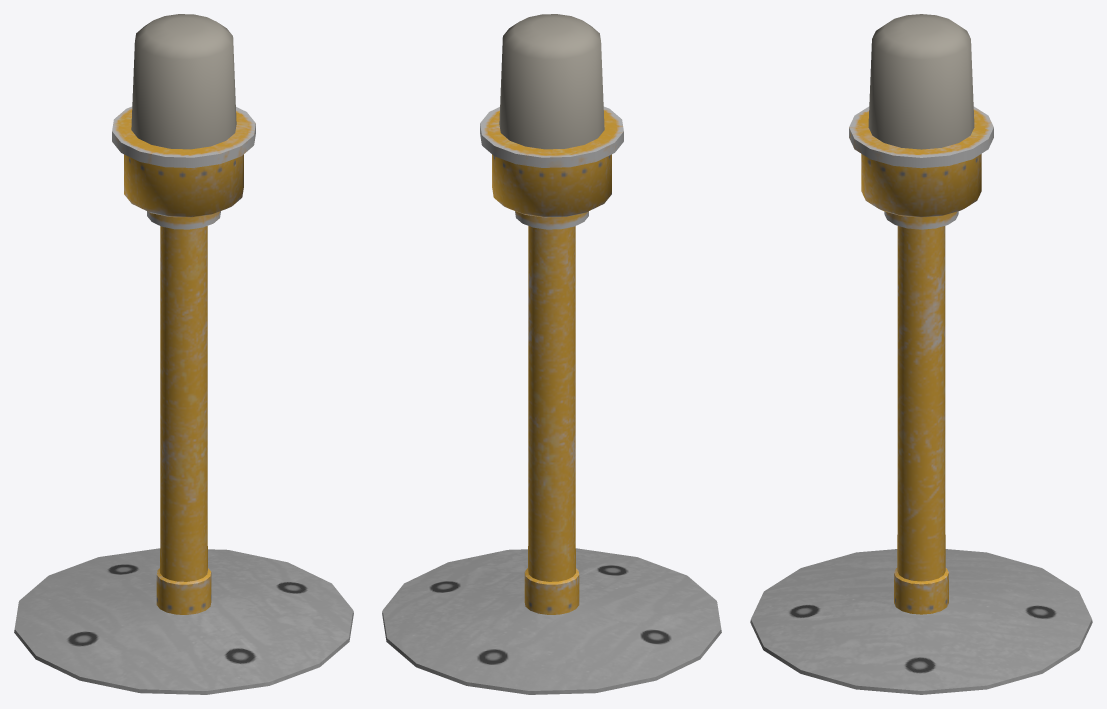
Rendered from SM_Runway_Lamp_White.fbx.
3 renders of one model, left to right at view 1: azimuth 30°, elevation 25°; view 2: azimuth 150°, elevation 25°; view 3: azimuth 270°, elevation 25°, orthographic.
Parts seen in each view (by area): view 1: SM_Runway_Lamp_White; view 2: SM_Runway_Lamp_White; view 3: SM_Runway_Lamp_White.
Part boxes in pixels (x1,y1,x2,y2): SM_Runway_Lamp_White: (14, 14, 353, 694); SM_Runway_Lamp_White: (382, 14, 721, 694); SM_Runway_Lamp_White: (750, 14, 1092, 694).
Bounding box in the file's own units: 0.2084 × 0.4004 × 0.2084.
